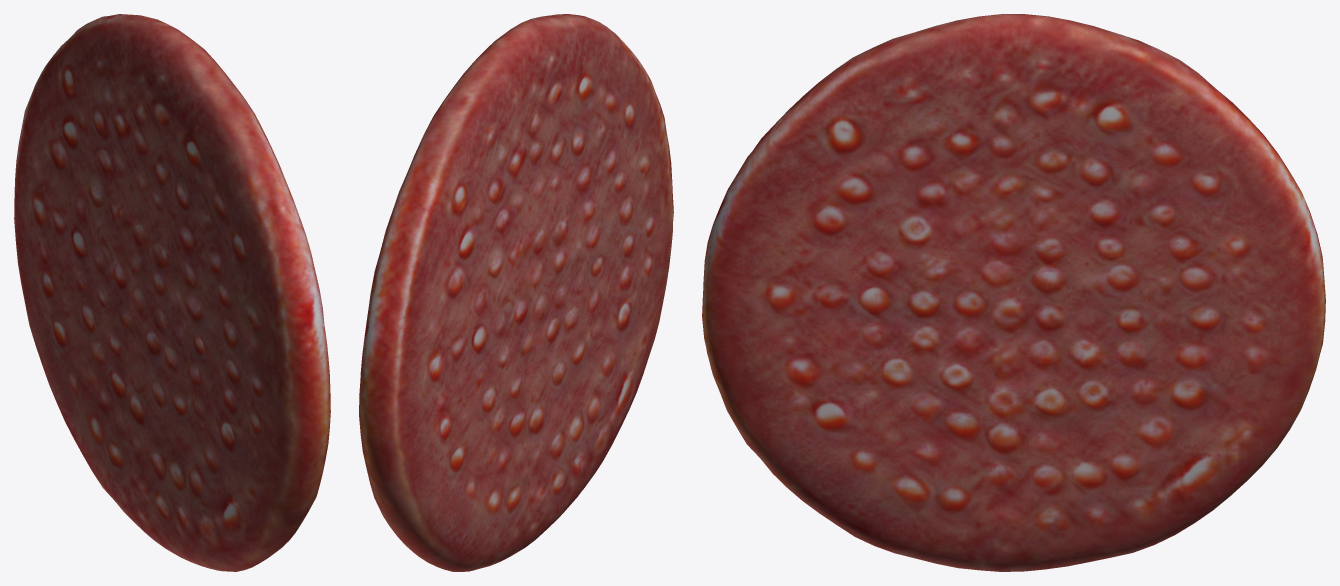
The model's file is Schorizo.fbx.
3 views of the same model, side by side, from view 1: azimuth 30°, elevation 25°; view 2: azimuth 150°, elevation 25°; view 3: azimuth 270°, elevation 25° (orthographic). The views are drawn at different scales.
Visible parts, largest first — view 1: mesh; view 2: mesh; view 3: mesh.
Part boxes in pixels (x1,y1,x2,y2): mesh: [14, 14, 330, 571]; mesh: [359, 14, 673, 571]; mesh: [702, 14, 1325, 571].
Bounding box in the file's own units: 11.75 × 97.81 × 99.72.
